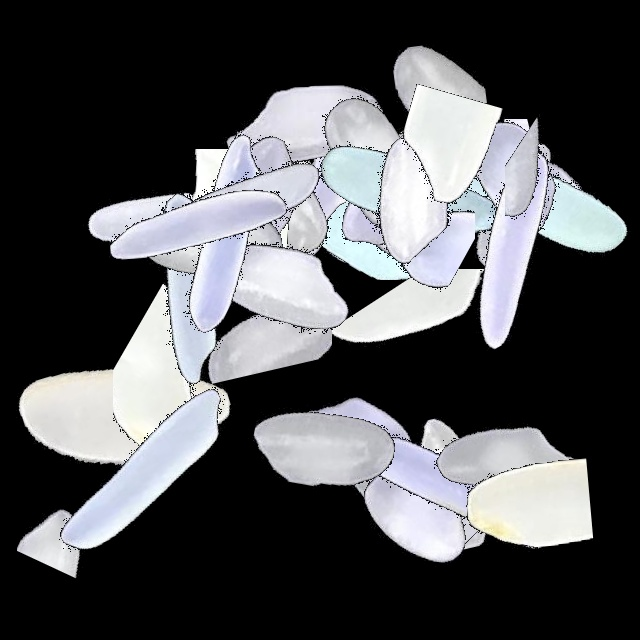Broken: (468, 42, 640, 292), (239, 110, 489, 280), (52, 132, 218, 382), (103, 94, 353, 258), (282, 357, 446, 607), (301, 40, 464, 290), (281, 28, 531, 188), (113, 266, 271, 516), (84, 149, 334, 306), (388, 428, 638, 582), (186, 173, 332, 423), (335, 95, 475, 345), (375, 35, 509, 285), (299, 425, 549, 557), (316, 269, 566, 399), (505, 59, 625, 309), (230, 60, 346, 310), (17, 390, 128, 640), (363, 119, 613, 218), (524, 0, 617, 250), (287, 58, 377, 308), (168, 549, 418, 624)
Full: (324, 357, 574, 607), (257, 99, 507, 349), (286, 76, 536, 326), (168, 82, 418, 332), (265, 71, 515, 321), (114, 76, 364, 326), (0, 289, 250, 539), (390, 83, 640, 333), (148, 65, 398, 315), (231, 315, 481, 565), (185, 0, 435, 250), (291, 390, 541, 640), (246, 37, 496, 287), (286, 72, 536, 322), (329, 366, 579, 616), (134, 69, 384, 319), (383, 339, 633, 589), (284, 70, 534, 320), (62, 161, 312, 411), (390, 51, 640, 301), (390, 127, 640, 377), (89, 118, 339, 368), (18, 346, 268, 596), (157, 164, 407, 414), (102, 109, 352, 359), (128, 71, 378, 321), (196, 326, 446, 576), (74, 100, 324, 350)
